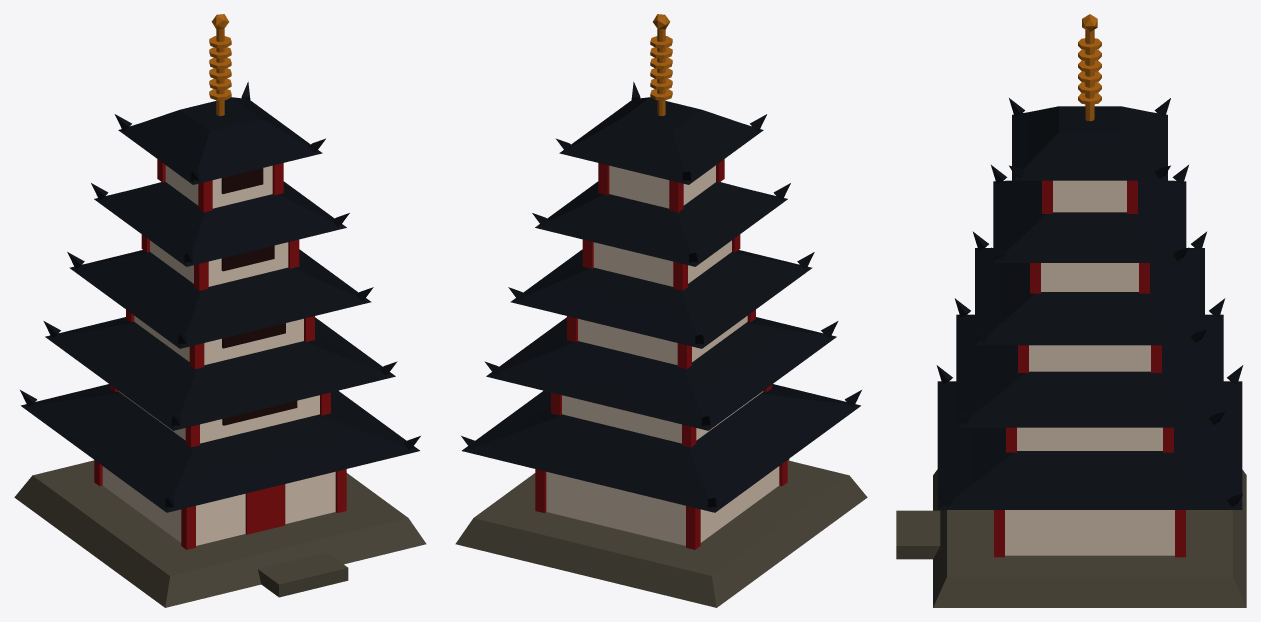
The model's file is pagoda.glb.
3 views of the same model, side by side, from view 1: azimuth 30°, elevation 25°; view 2: azimuth 150°, elevation 25°; view 3: azimuth 270°, elevation 25° (orthographic). The views are drawn at different scales.
Parts seen in each view (by area): view 1: pagoda; view 2: pagoda; view 3: pagoda.
Part boxes in pixels (bbox=[...]): pagoda: bbox=[14, 14, 426, 607]; pagoda: bbox=[455, 14, 867, 607]; pagoda: bbox=[896, 14, 1246, 607].
Size of the model in its own units: 3.4 by 6.29 by 3.8.
Materials: 1 (1 with a texture image).
